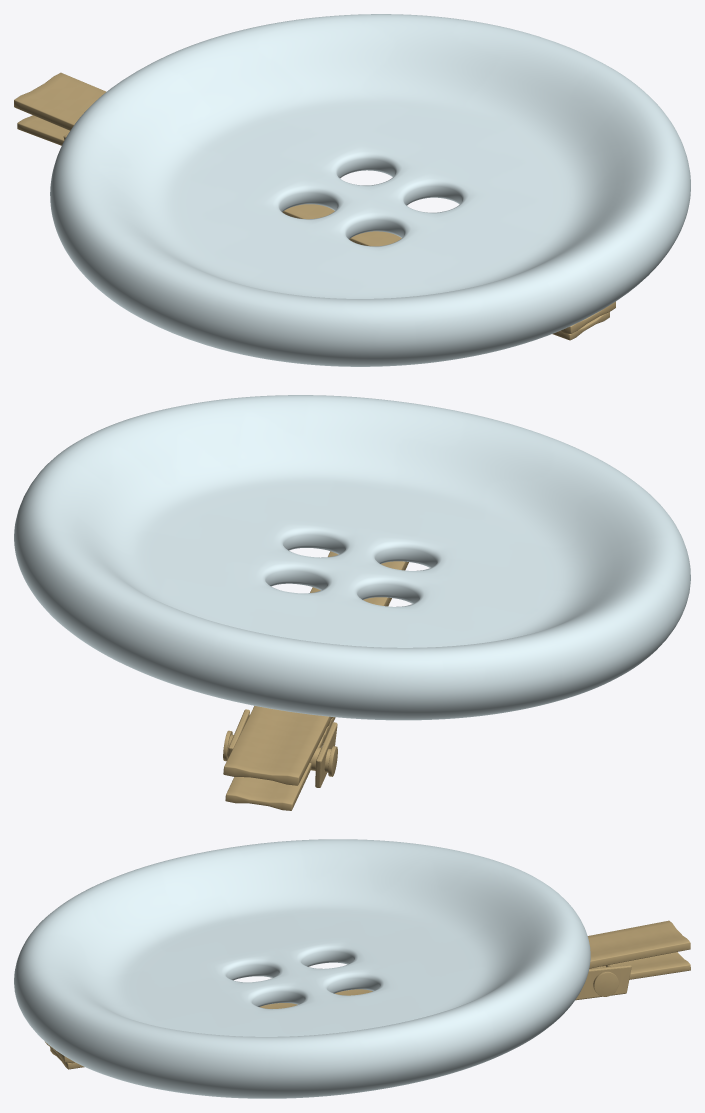
File: HairClip_Glass.glb
3 views of the same model, one above another, from view 1: azimuth 30°, elevation 25°; view 2: azimuth 150°, elevation 25°; view 3: azimuth 270°, elevation 25° (orthographic). The views are drawn at different scales.
Visible parts, largest first — view 1: HairClip_Glass__Pink_Four_Hole_Button, HairClip_Glass__Fixed_Serrated_Jaw, HairClip_Glass__Moving_Jaw_Static_Pose; view 2: HairClip_Glass__Pink_Four_Hole_Button, HairClip_Glass__Fixed_Serrated_Jaw, HairClip_Glass__Moving_Jaw_Static_Pose, HairClip_Glass__Pivot_Cheek_L; view 3: HairClip_Glass__Pink_Four_Hole_Button, HairClip_Glass__Fixed_Serrated_Jaw, HairClip_Glass__Moving_Jaw_Static_Pose, HairClip_Glass__Pivot_Cheek_R, HairClip_Glass__Pivot_Head_R.
Part boxes in pixels (left/top/right/bottom): HairClip_Glass__Pink_Four_Hole_Button: left=50, top=14, right=690, bottom=366; HairClip_Glass__Fixed_Serrated_Jaw: left=14, top=72, right=615, bottom=333; HairClip_Glass__Moving_Jaw_Static_Pose: left=17, top=115, right=609, bottom=340; HairClip_Glass__Pink_Four_Hole_Button: left=14, top=395, right=690, bottom=720; HairClip_Glass__Fixed_Serrated_Jaw: left=223, top=551, right=408, bottom=785; HairClip_Glass__Moving_Jaw_Static_Pose: left=225, top=562, right=408, bottom=810; HairClip_Glass__Pivot_Cheek_L: left=315, top=722, right=337, bottom=787; HairClip_Glass__Pink_Four_Hole_Button: left=14, top=839, right=590, bottom=1098; HairClip_Glass__Fixed_Serrated_Jaw: left=45, top=920, right=690, bottom=1063; HairClip_Glass__Moving_Jaw_Static_Pose: left=50, top=952, right=690, bottom=1069; HairClip_Glass__Pivot_Cheek_R: left=575, top=965, right=631, bottom=1000; HairClip_Glass__Pivot_Head_R: left=593, top=971, right=618, bottom=996.
Bounding box in the file's own units: 39.83 × 7.94 × 46.76.
2 materials, 2 textured.
